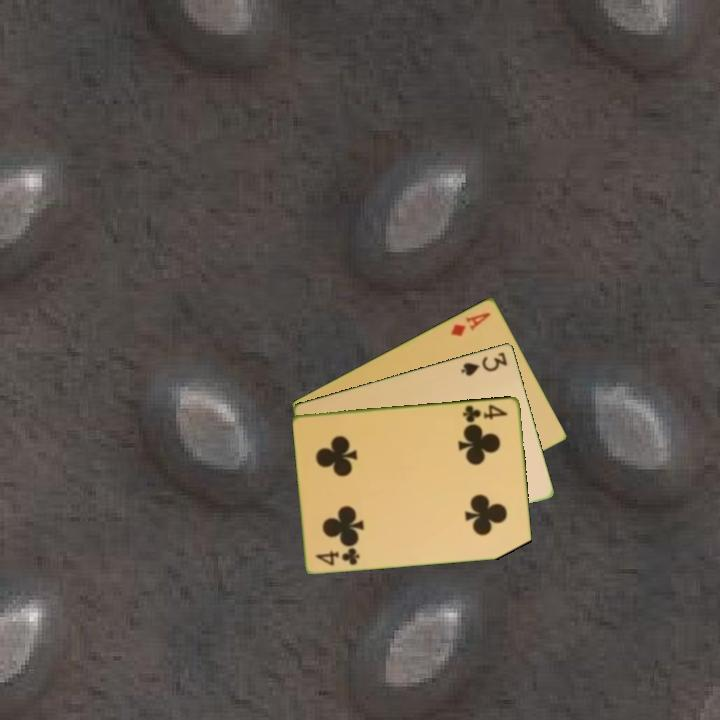3s: (458, 348, 511, 379)
4c: (459, 400, 511, 425), (312, 544, 363, 568)
Ad: (447, 308, 493, 339)
